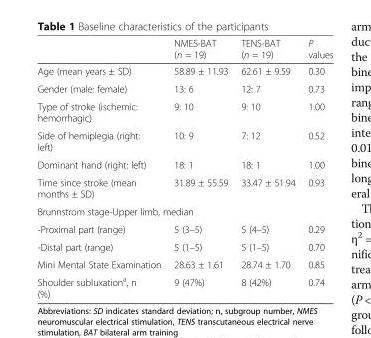table: (36, 37, 332, 298)
table column: (36, 37, 166, 298), (233, 37, 301, 298), (166, 37, 233, 298), (301, 37, 332, 298)
table column header: (36, 37, 332, 62)
table projected row header: (36, 202, 332, 219)
table row: (36, 97, 332, 126), (36, 126, 332, 155), (36, 173, 332, 202), (36, 272, 332, 298), (36, 37, 332, 62), (36, 79, 332, 97), (36, 155, 332, 173), (36, 219, 332, 237), (36, 237, 332, 255), (36, 62, 332, 79), (36, 202, 332, 219), (36, 255, 332, 272)
